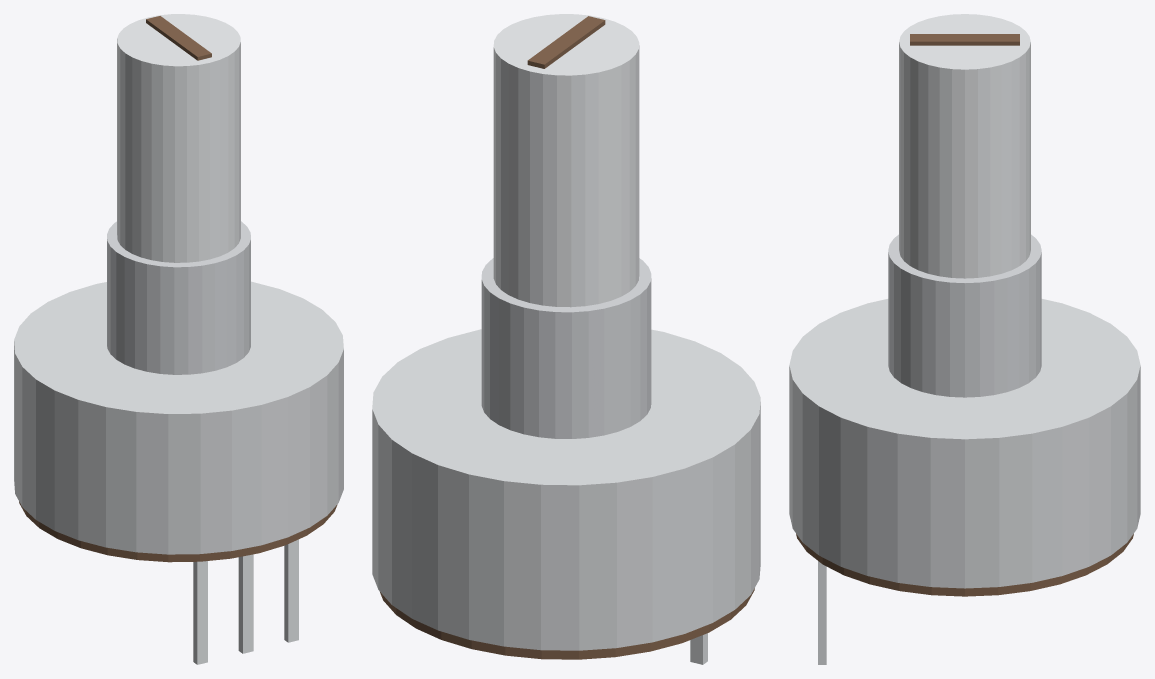
File: potentiometer_10k.glb
3 renders of one model, left to right at view 1: azimuth 30°, elevation 25°; view 2: azimuth 150°, elevation 25°; view 3: azimuth 270°, elevation 25°, orthographic. The views are drawn at different scales.
Visible parts, largest first — view 1: Pot_Body_Can, Pot_Rotating_Shaft, Pot_Threaded_Bushing, Pot_Phenolic_Wafer, Cube.001, Cube, Cube.002, Pot_Shaft_Slot; view 2: Pot_Body_Can, Pot_Rotating_Shaft, Pot_Threaded_Bushing, Pot_Phenolic_Wafer, Pot_Shaft_Slot; view 3: Pot_Body_Can, Pot_Rotating_Shaft, Pot_Threaded_Bushing, Pot_Phenolic_Wafer, Pot_Shaft_Slot, Cube.002.
Boxes of the visible parts, bbox=[...] form: Pot_Body_Can: bbox=[14, 281, 343, 554]; Pot_Rotating_Shaft: bbox=[117, 14, 240, 262]; Pot_Threaded_Bushing: bbox=[107, 221, 250, 374]; Pot_Phenolic_Wafer: bbox=[19, 501, 337, 562]; Cube.001: bbox=[238, 554, 253, 653]; Cube: bbox=[193, 561, 207, 664]; Cube.002: bbox=[284, 539, 298, 642]; Pot_Shaft_Slot: bbox=[146, 16, 211, 60]; Pot_Body_Can: bbox=[372, 329, 760, 650]; Pot_Rotating_Shaft: bbox=[493, 14, 639, 307]; Pot_Threaded_Bushing: bbox=[481, 258, 651, 438]; Pot_Phenolic_Wafer: bbox=[380, 588, 754, 659]; Pot_Shaft_Slot: bbox=[527, 16, 605, 68]; Pot_Body_Can: bbox=[789, 299, 1140, 588]; Pot_Rotating_Shaft: bbox=[899, 14, 1030, 278]; Pot_Threaded_Bushing: bbox=[888, 234, 1041, 397]; Pot_Phenolic_Wafer: bbox=[796, 534, 1133, 596]; Pot_Shaft_Slot: bbox=[910, 34, 1019, 45]; Cube.002: bbox=[818, 561, 826, 664].
Size of the model in its own units: 0.016 by 0.0302 by 0.016.
